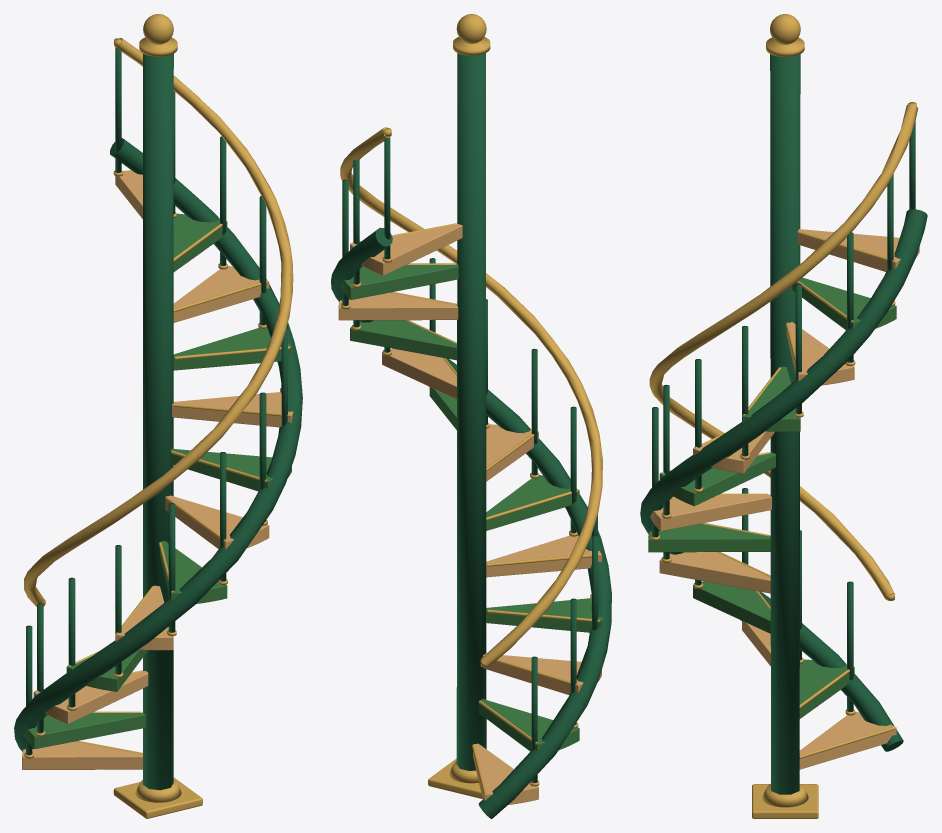
File: spiral_stair.glb
3 renders of one model, left to right at view 1: azimuth 30°, elevation 25°; view 2: azimuth 150°, elevation 25°; view 3: azimuth 270°, elevation 25°, orthographic. The views are drawn at different scales.
Parts seen in each view (by area): view 1: Post, Stringer, Handrail, Tread00, Tread01, Tread09, Tread10, Tread08, Tread02, Tread06, Tread07, Tread11 (+19 smaller); view 2: Post, Stringer, Handrail, Tread10, Tread09, Tread11, Tread05, Tread12, Tread04, Tread03, Tread08, Tread02 (+15 smaller); view 3: Post, Stringer, Handrail, Tread05, Tread04, Tread06, Tread00, Tread03, Tread07, Tread12, Tread11, Tread01 (+17 smaller).
Boxes of the visible parts, bbox=[...] form: Post: bbox=[143, 54, 173, 790]; Stringer: bbox=[14, 138, 302, 751]; Handrail: bbox=[24, 38, 293, 606]; Tread00: bbox=[22, 741, 142, 769]; Tread01: bbox=[24, 712, 145, 749]; Tread09: bbox=[173, 328, 291, 370]; Tread10: bbox=[173, 265, 269, 322]; Tread08: bbox=[172, 392, 293, 427]; Tread02: bbox=[33, 671, 148, 723]; Tread06: bbox=[165, 495, 269, 549]; Tread07: bbox=[170, 448, 291, 491]; Tread11: bbox=[173, 213, 227, 271]; Post: bbox=[456, 53, 486, 770]; Stringer: bbox=[331, 227, 611, 818]; Handrail: bbox=[340, 127, 602, 666]; Tread10: bbox=[338, 292, 458, 320]; Tread09: bbox=[350, 320, 456, 360]; Tread11: bbox=[340, 264, 458, 299]; Tread05: bbox=[486, 475, 579, 530]; Tread12: bbox=[350, 224, 462, 275]; Tread04: bbox=[486, 535, 601, 577]; Tread03: bbox=[486, 598, 602, 632]; Tread08: bbox=[382, 348, 456, 398]; Tread02: bbox=[482, 653, 601, 695]; Post: bbox=[770, 54, 800, 794]; Stringer: bbox=[640, 209, 927, 751]; Handrail: bbox=[649, 104, 918, 599]; Tread05: bbox=[648, 523, 770, 552]; Tread04: bbox=[659, 552, 770, 593]; Tread06: bbox=[650, 494, 771, 531]; Tread00: bbox=[799, 711, 896, 769]; Tread03: bbox=[693, 581, 770, 633]; Tread07: bbox=[659, 452, 775, 506]; Tread12: bbox=[797, 229, 919, 271]; Tread11: bbox=[792, 277, 896, 329]; Tread01: bbox=[799, 659, 854, 718].
Size of the model in its own units: 1.44 by 4.32 by 1.43.
